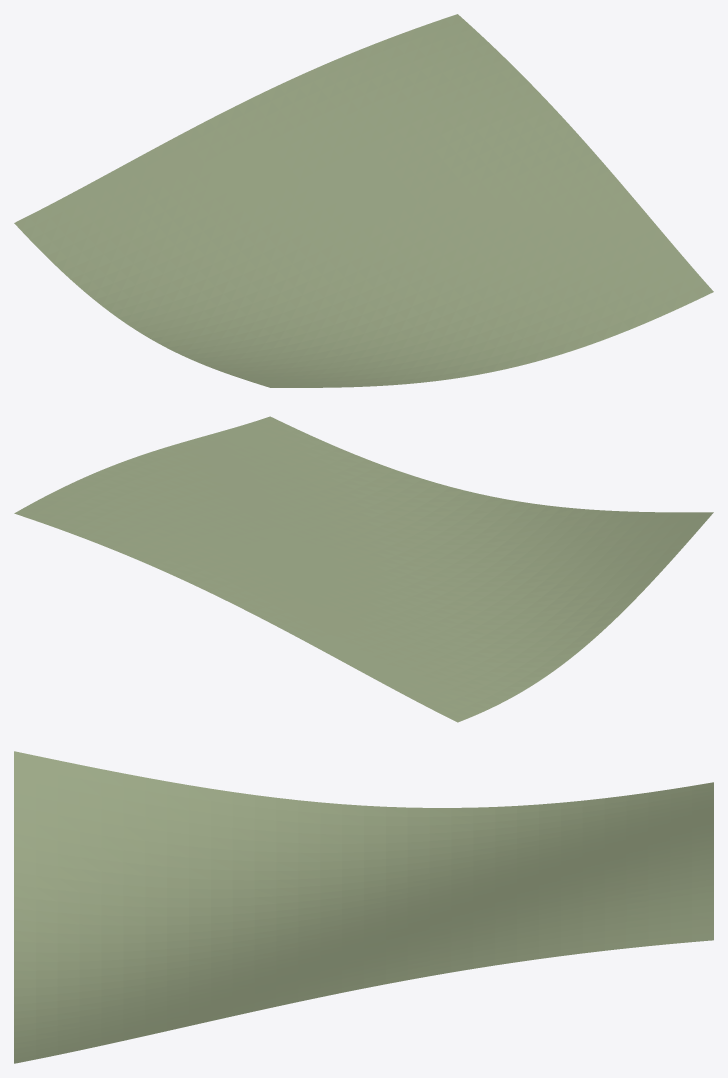
The model's file is expanse-11-12.glb.
The picture shows the model from 3 angles, top to bottom: view 1: azimuth 30°, elevation 25°; view 2: azimuth 150°, elevation 25°; view 3: azimuth 270°, elevation 25°; orthographic projection. The views are drawn at different scales.
Visible parts, largest first — view 1: expanse-11-12; view 2: expanse-11-12; view 3: expanse-11-12.
Boxes of the visible parts, x1,y1,x2,y2 form: expanse-11-12: [14, 14, 713, 387]; expanse-11-12: [14, 416, 713, 722]; expanse-11-12: [14, 751, 713, 1063].
Bounding box in the file's own units: 256 × 65.97 × 256.
